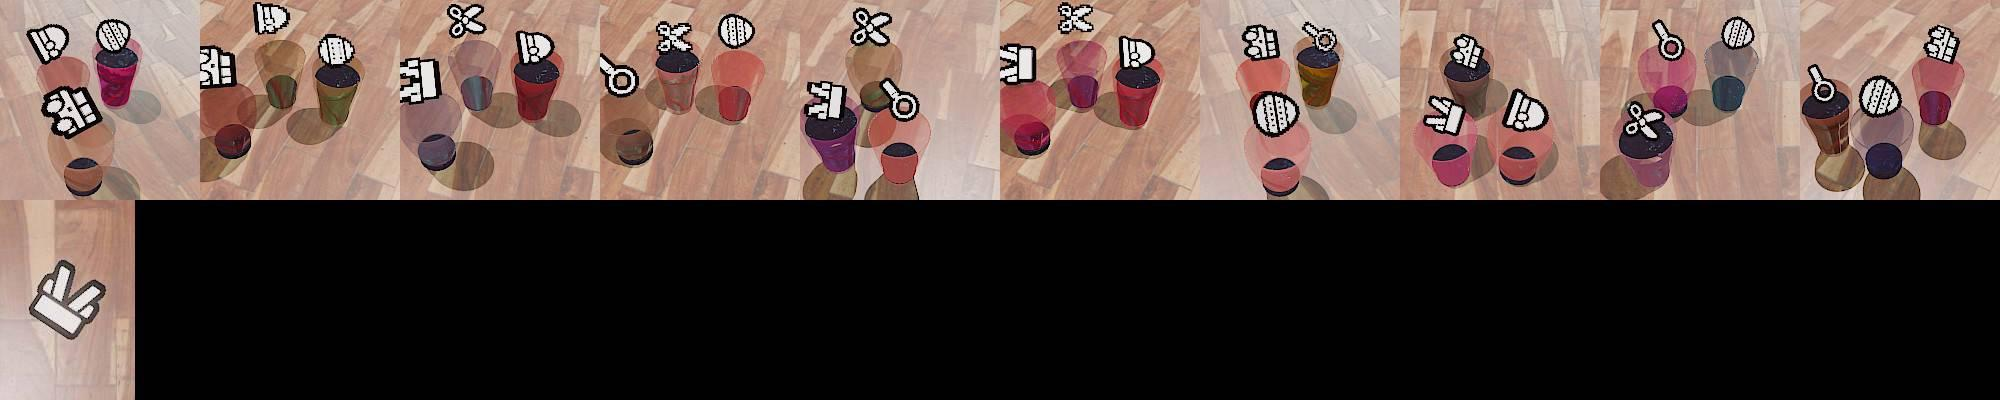icon: (29, 257, 108, 340), (41, 84, 103, 138), (1249, 90, 1300, 138), (1501, 88, 1548, 132), (597, 51, 640, 99), (400, 56, 442, 104), (880, 76, 923, 122), (25, 23, 71, 65), (805, 79, 847, 124), (1859, 74, 1902, 117), (1423, 92, 1465, 136), (1625, 98, 1668, 140), (999, 42, 1038, 88), (199, 44, 236, 90), (851, 7, 893, 47), (1242, 23, 1281, 62), (446, 2, 487, 39), (1652, 19, 1686, 63), (516, 29, 556, 66), (654, 20, 695, 56), (1923, 24, 1960, 63), (717, 13, 756, 50), (316, 33, 356, 68), (1055, 2, 1096, 36), (1120, 35, 1156, 72), (252, 2, 291, 36), (1449, 33, 1485, 69), (1300, 21, 1337, 56), (95, 19, 132, 54), (1805, 63, 1835, 104), (1724, 18, 1753, 48)
